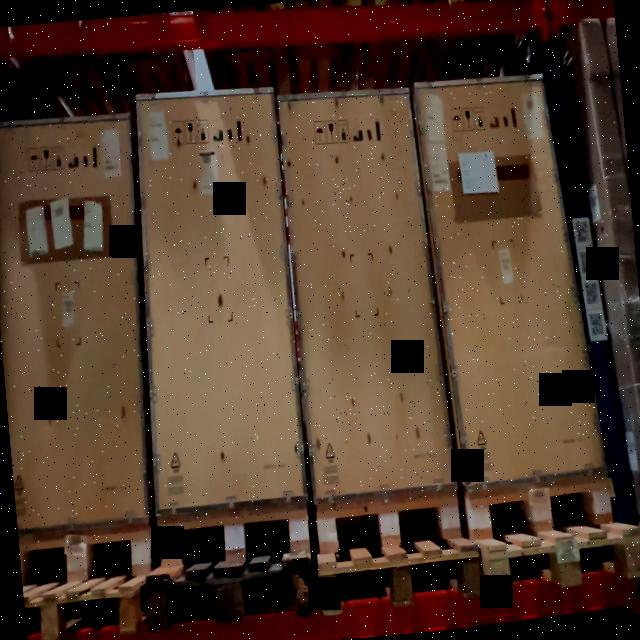box: (138, 91, 302, 505), (284, 91, 440, 488), (430, 75, 579, 484)
